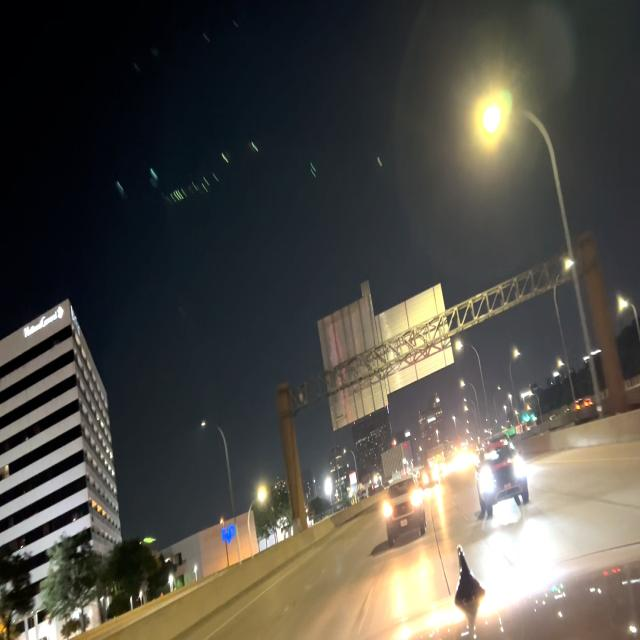back-of-sign: (318, 282, 454, 430)
